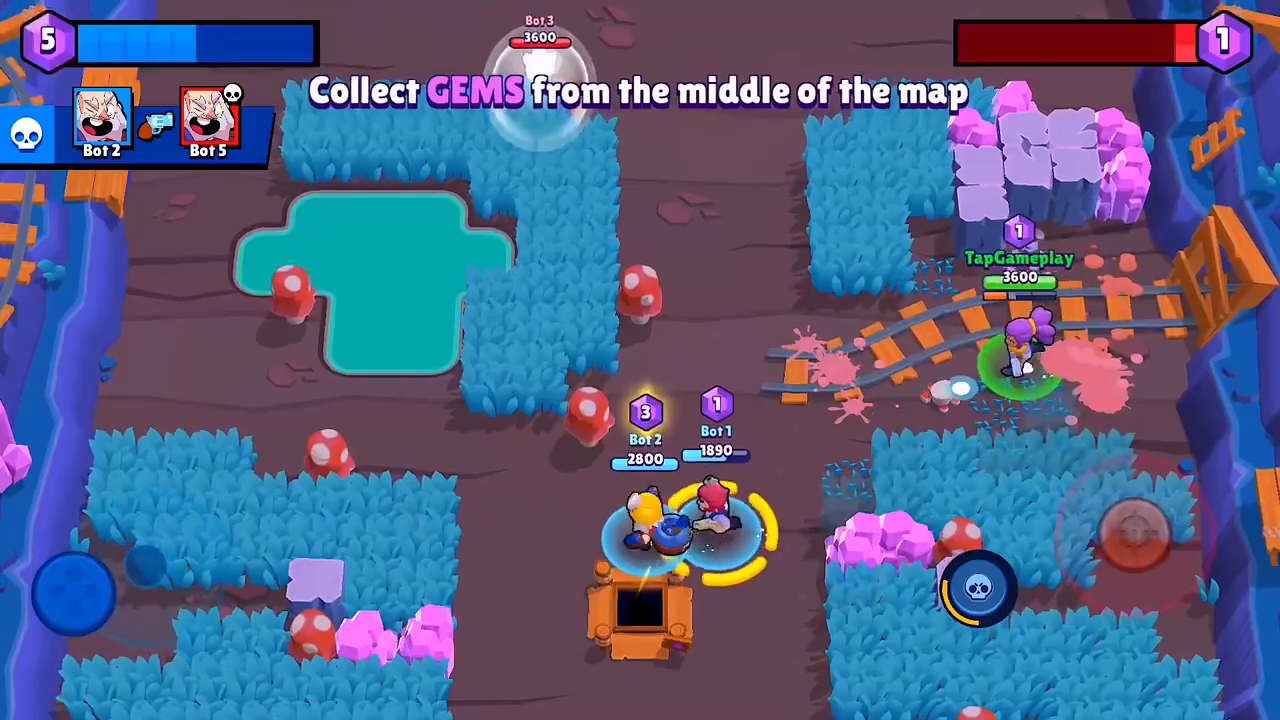move_stick: (42, 547, 116, 632)
red: (498, 23, 593, 126)
